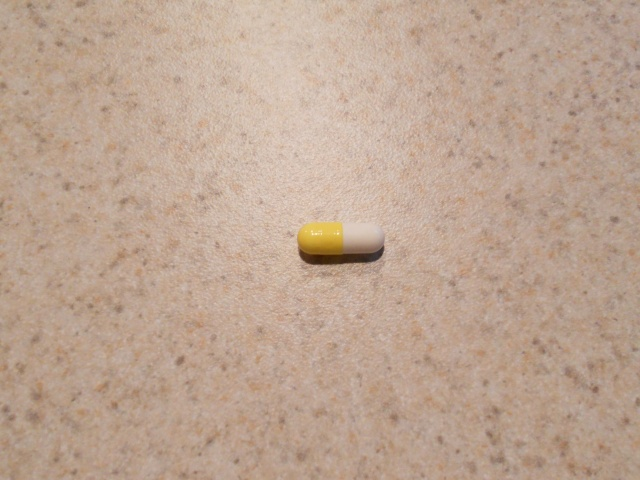capsule: (296, 219, 387, 256)
